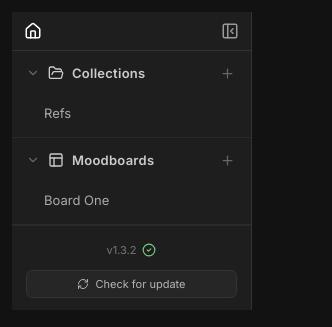
Test: Sidebar › toggles both sidebar sections open and closed
Click the button "Collections".
click(132, 73)  # box [12, 51, 251, 95]
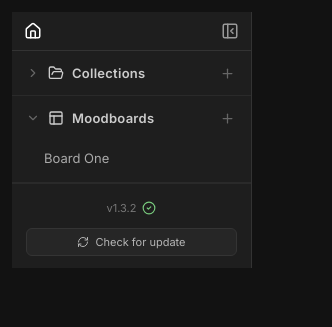
Result: the text "Refs" is gone
Click the button "Moodboards".
click(132, 118)  # box [12, 96, 251, 140]
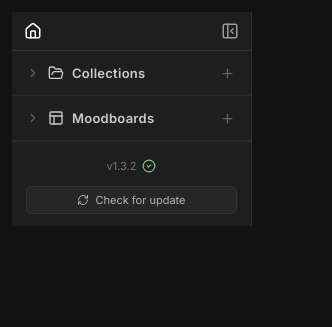
Result: the text "Board One" is gone
Click the button "Collections".
click(132, 73)  # box [12, 51, 251, 95]
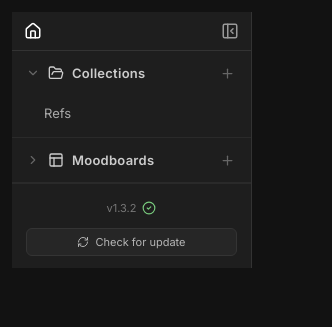
Click the button "Moodboards".
click(132, 160)  # box [12, 138, 251, 182]
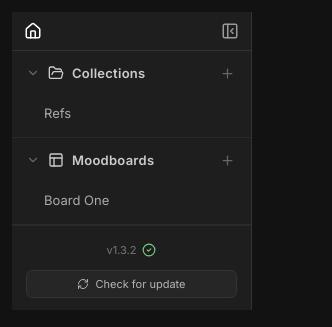
Result: the text "Refs" is shown at [44, 105, 71, 121]
Result: the text "Board One" is shown at [44, 192, 109, 208]
